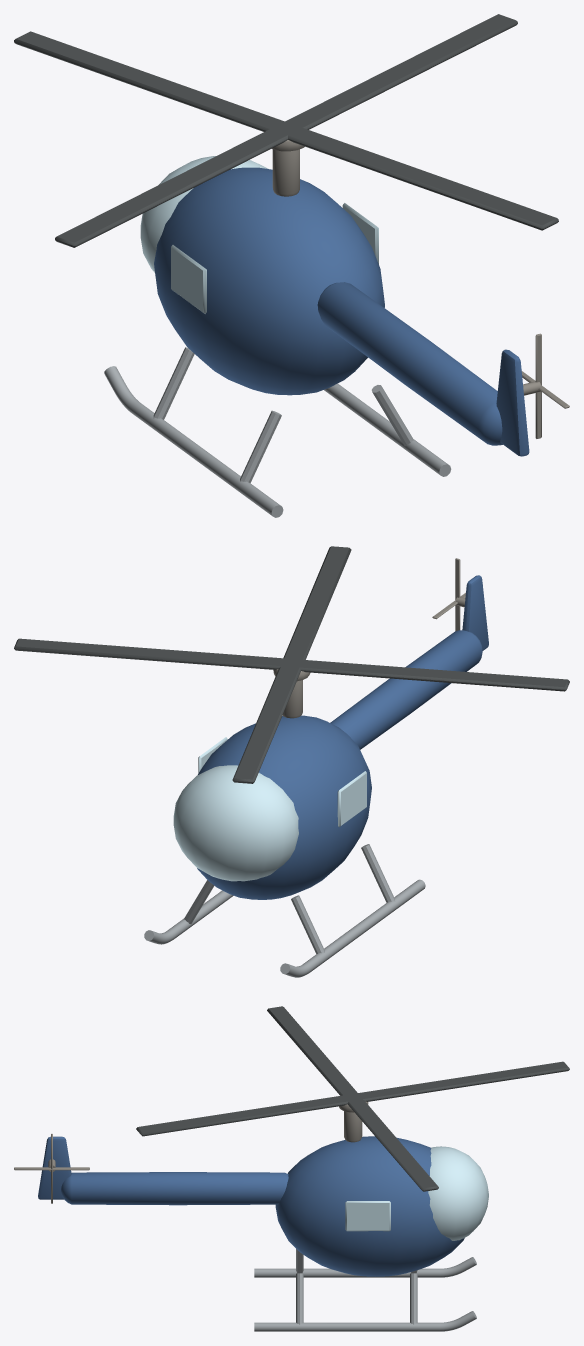
File: helicopter.glb
The picture shows the model from 3 angles, top to bottom: view 1: azimuth 30°, elevation 25°; view 2: azimuth 150°, elevation 25°; view 3: azimuth 270°, elevation 25°; orthographic projection. The views are drawn at different scales.
Visible parts, largest first — view 1: sign_blue, rubber, galv, glass, steel_dark; view 2: sign_blue, glass, rubber, galv, steel_dark; view 3: sign_blue, rubber, glass, galv, steel_dark.
Part boxes in pixels (x1,y1,x2,y2): sign_blue: (154,167,529,456); rubber: (14,14,558,247); galv: (104,347,451,517); glass: (140,156,378,313); steel_dark: (272,140,569,438); sign_blue: (197,575,488,899); glass: (173,737,366,881); rubber: (14,546,569,783); galv: (144,844,425,977); steel_dark: (273,558,482,718); sign_blue: (38,1136,464,1276); rubber: (136,1006,569,1191); glass: (345,1146,488,1240); galv: (254,1249,476,1331); steel_dark: (14,1101,368,1203).
Bounding box in the file's own units: 2.85 × 1.5 × 3.66.
